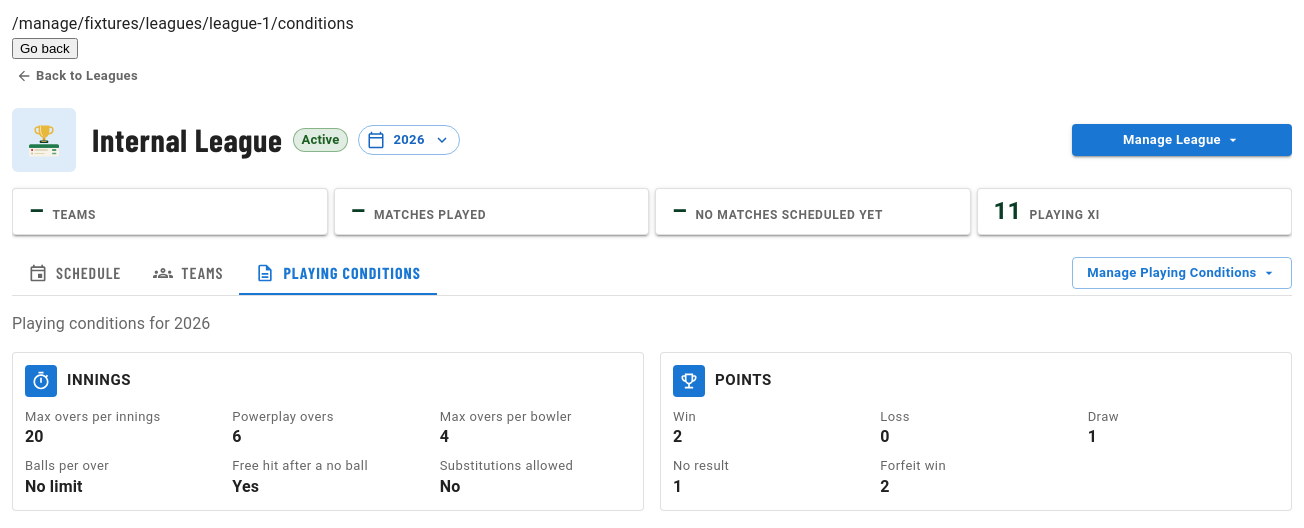
LeagueConditionsView › disables View Document with "No PDF uploaded" when the season has none
Expected: the text "Playing conditions for 2026" is shown, [12,314,210,333]
Click the button "Manage Playing Conditions".
click(1182, 273)  # box [1072,257,1292,289]
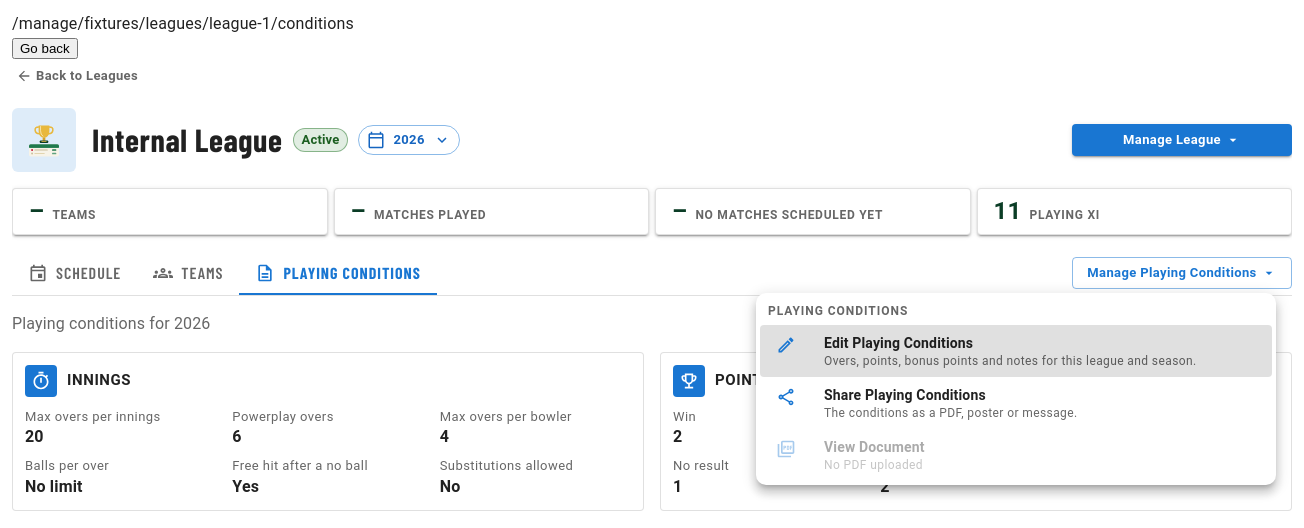
Expected: the menu item "View Document No PDF uploaded" is shown, [776,439,925,472]
